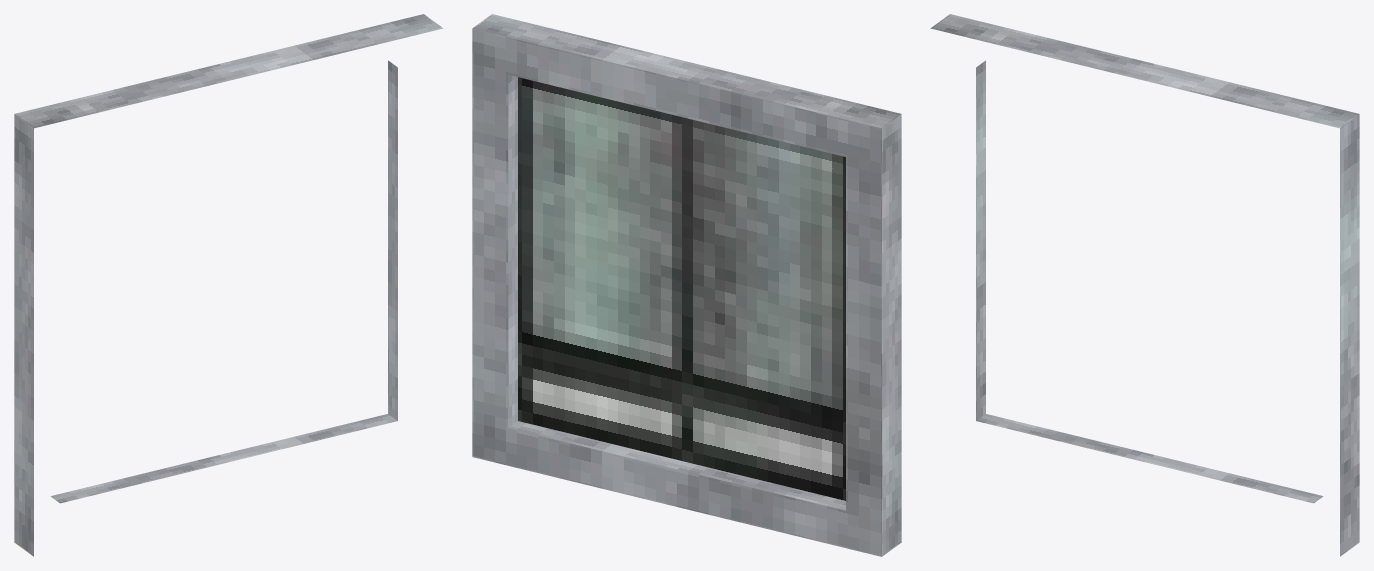
File: window-wide-type-d.glb
3 renders of one model, left to right at view 1: azimuth 30°, elevation 25°; view 2: azimuth 150°, elevation 25°; view 3: azimuth 330°, elevation 25°, orthographic.
Parts seen in each view (by area): view 1: window-wide-type-d; view 2: window-wide-type-d; view 3: window-wide-type-d.
Part boxes in pixels (box(x1,y1,x2,y2)): window-wide-type-d: box(14, 14, 443, 556); window-wide-type-d: box(472, 14, 901, 556); window-wide-type-d: box(930, 14, 1359, 556).
Size of the model in its own units: 0.5978 by 0.5978 by 0.05.
2 materials, 2 textured.
